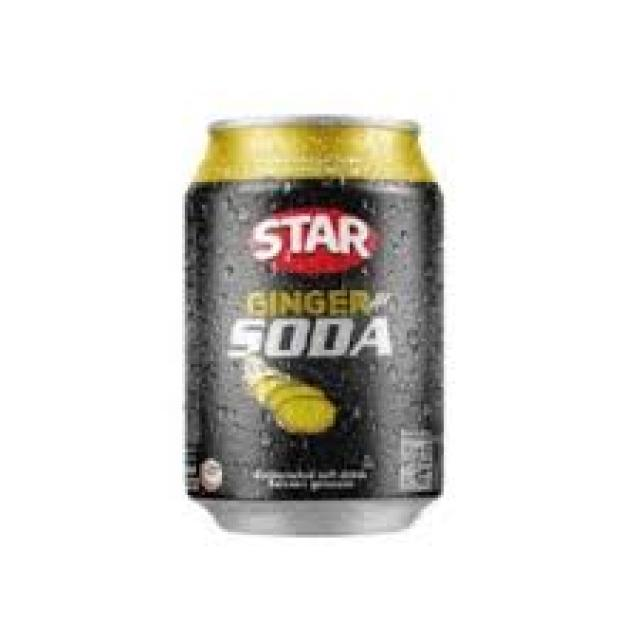Cans: (173, 108, 458, 541)
